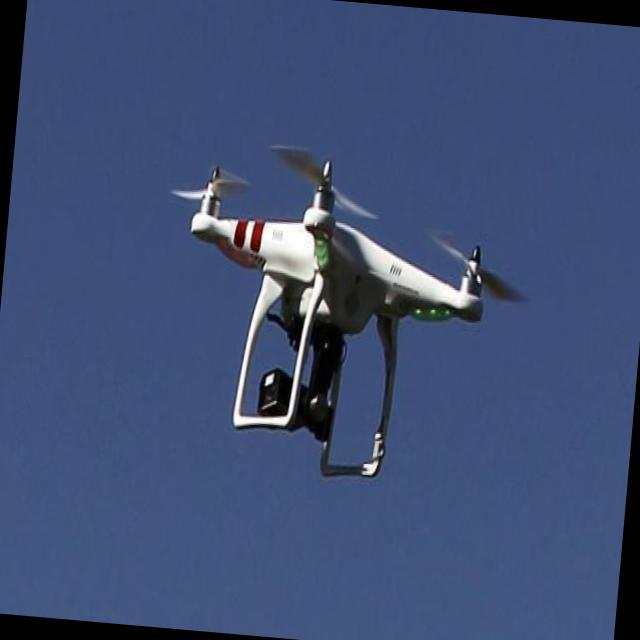drone: (148, 130, 510, 492)
